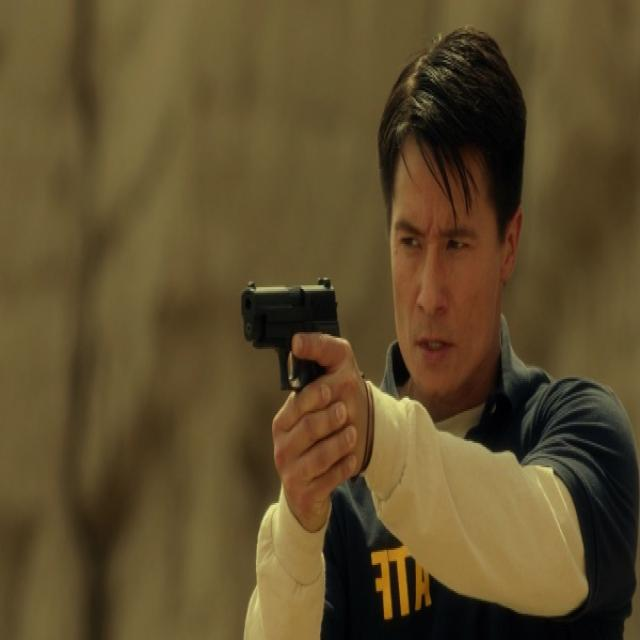weapons: (235, 262, 358, 448)
